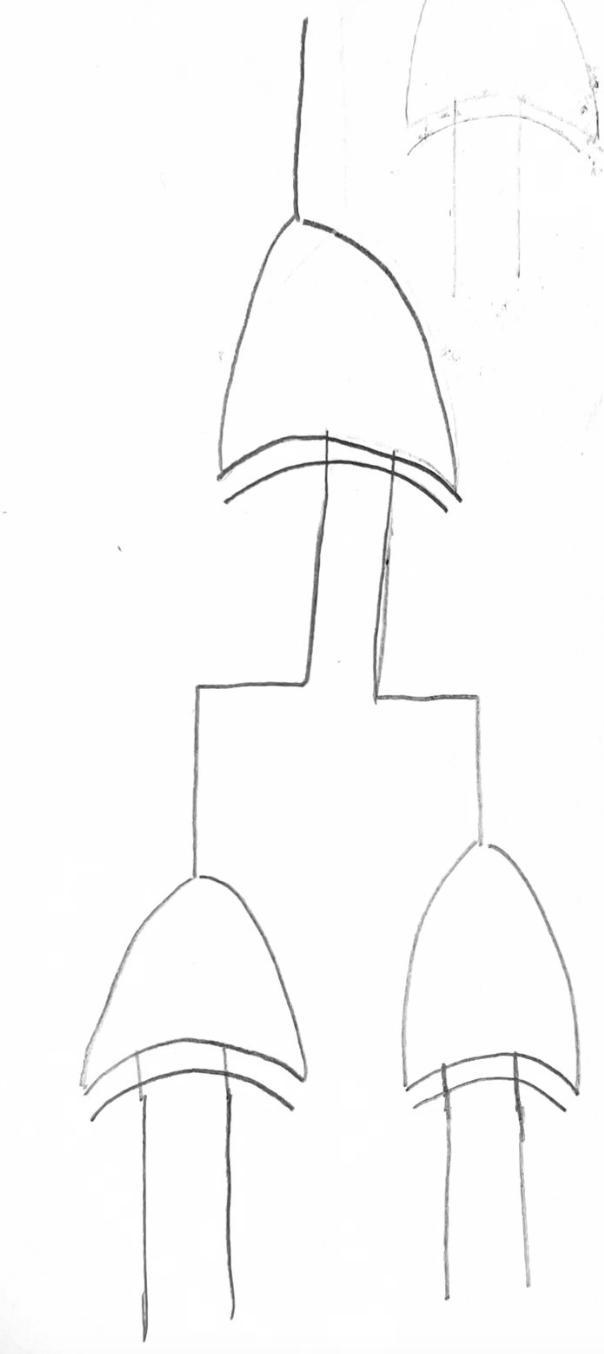XOR: (195, 175, 495, 544), (73, 860, 325, 1144), (378, 840, 604, 1144)
